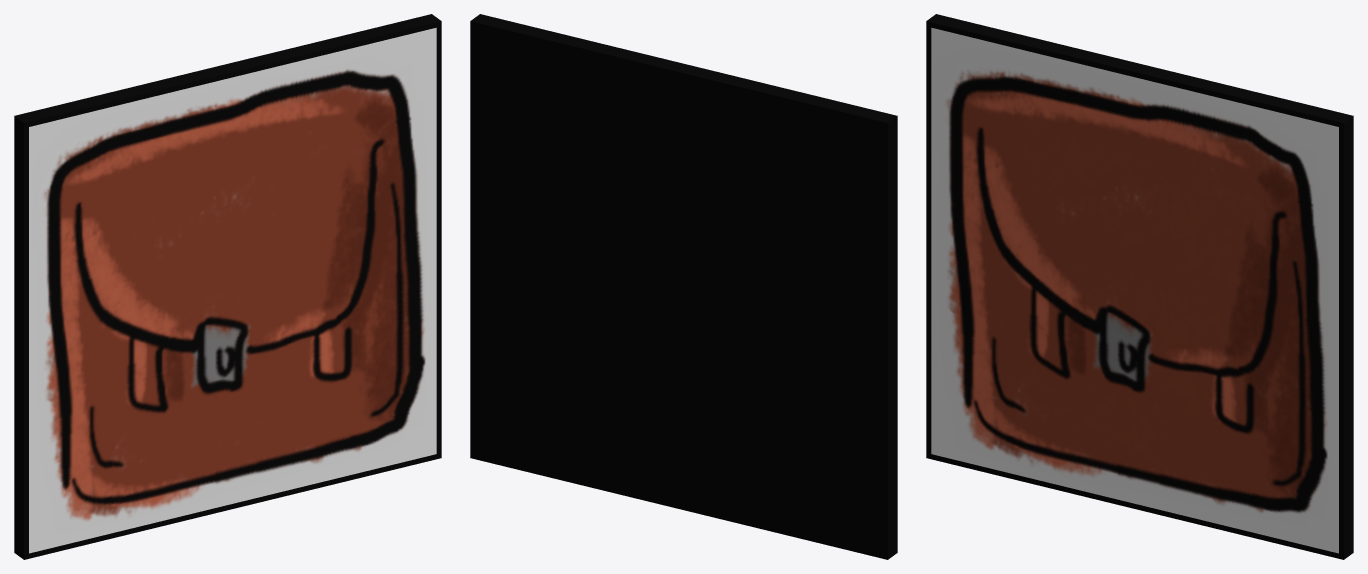
The model's file is mdl_poland_fiat_item1.gltf.
3 renders of one model, left to right at view 1: azimuth 30°, elevation 25°; view 2: azimuth 150°, elevation 25°; view 3: azimuth 330°, elevation 25°, orthographic.
Visible parts, largest first — view 1: Plane.001; view 2: Plane.001; view 3: Plane.001.
Boxes of the visible parts, x1,y1,x2,y2 form: Plane.001: (14, 14, 441, 559); Plane.001: (470, 14, 897, 559); Plane.001: (926, 14, 1353, 559).
Size of the model in its own units: 0.8 by 0.8 by 0.0326.
2 materials, 2 textured.
